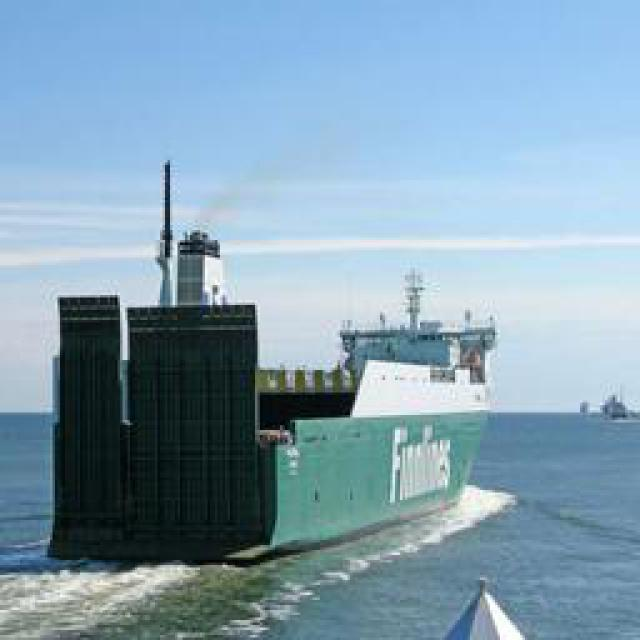Ship: (602, 393, 630, 421)
